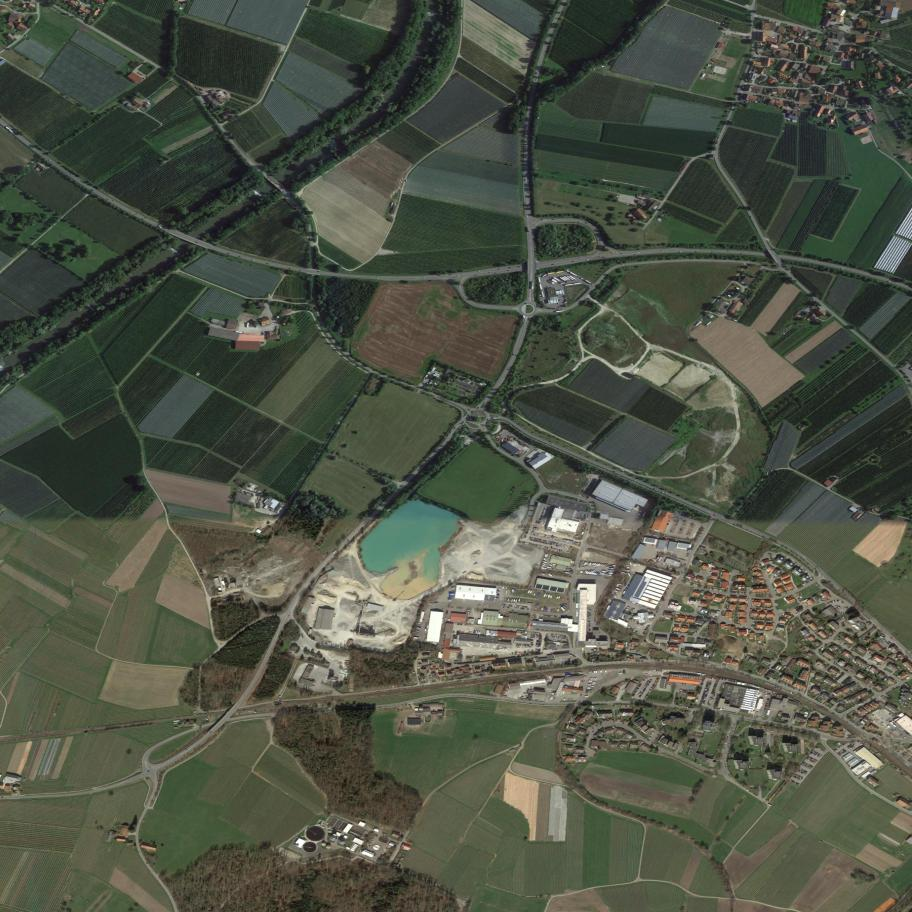storage-tank: (304, 825, 326, 841), (301, 841, 317, 854), (328, 833, 339, 842), (371, 843, 381, 851), (338, 837, 348, 845), (325, 845, 332, 850), (321, 842, 326, 847)
